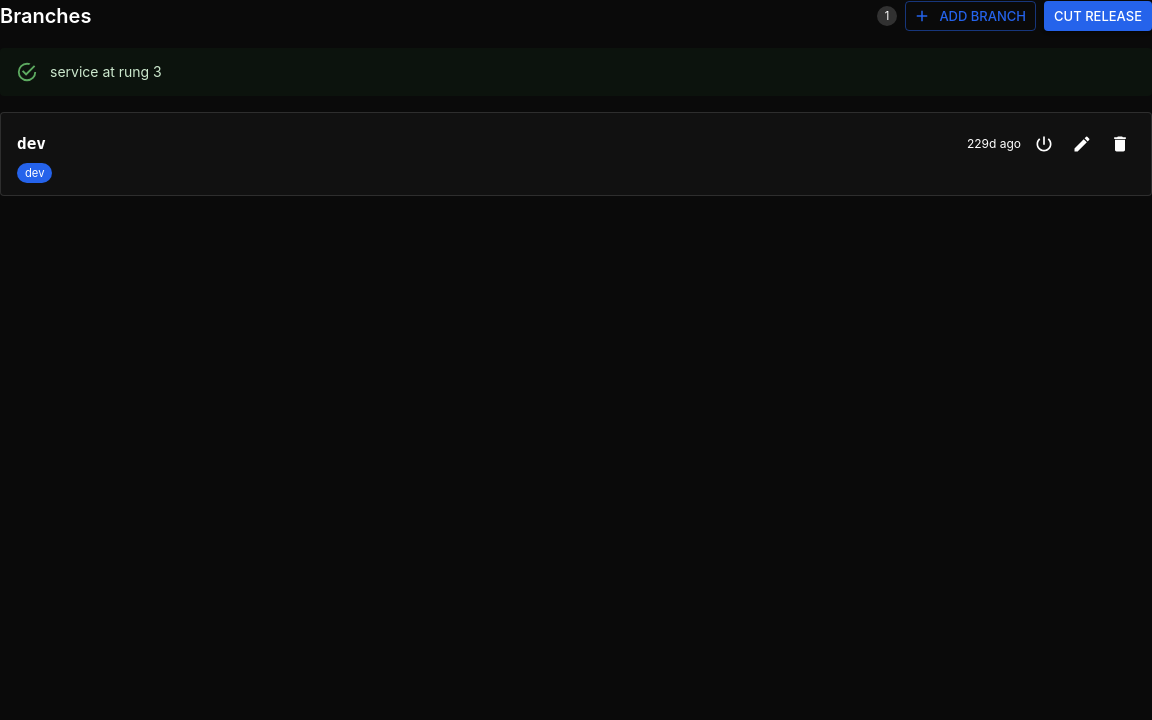
AddBranchDialog (TK-1683) › server error displays inline
Click the button with test id "add-branch-button".
click(971, 16)  # box 905,1 -> 1036,31
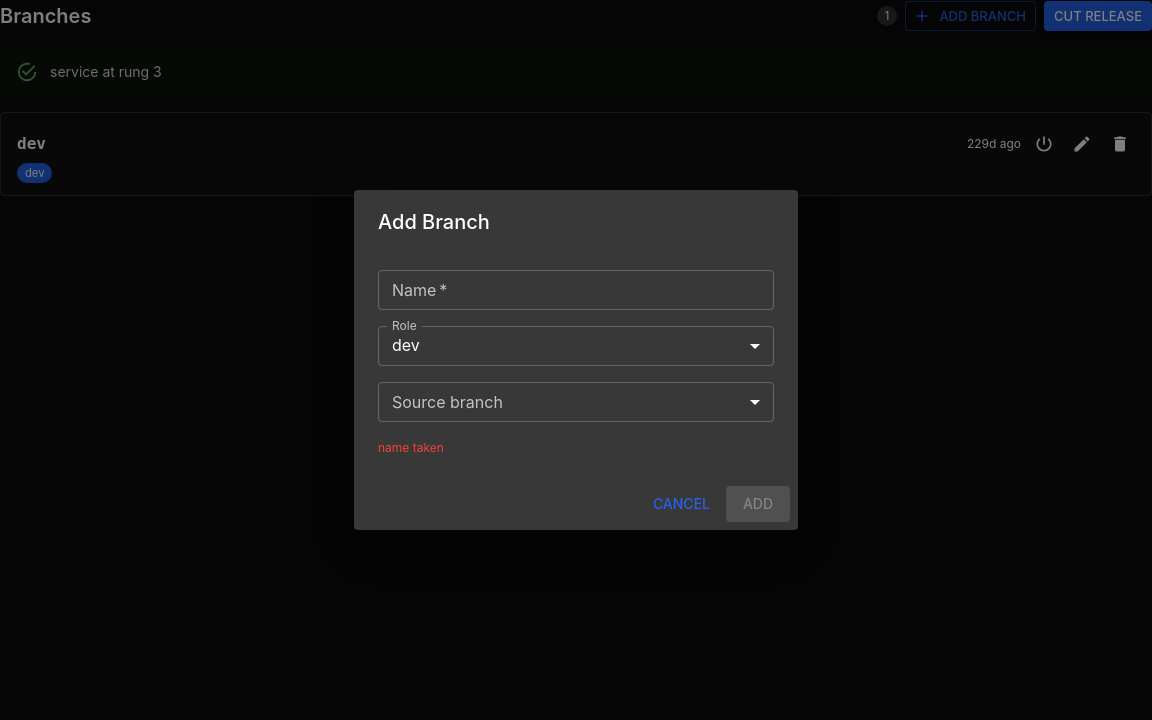
Check: the text with test id "add-branch-error" reads "name taken", box 378,440 -> 444,455
